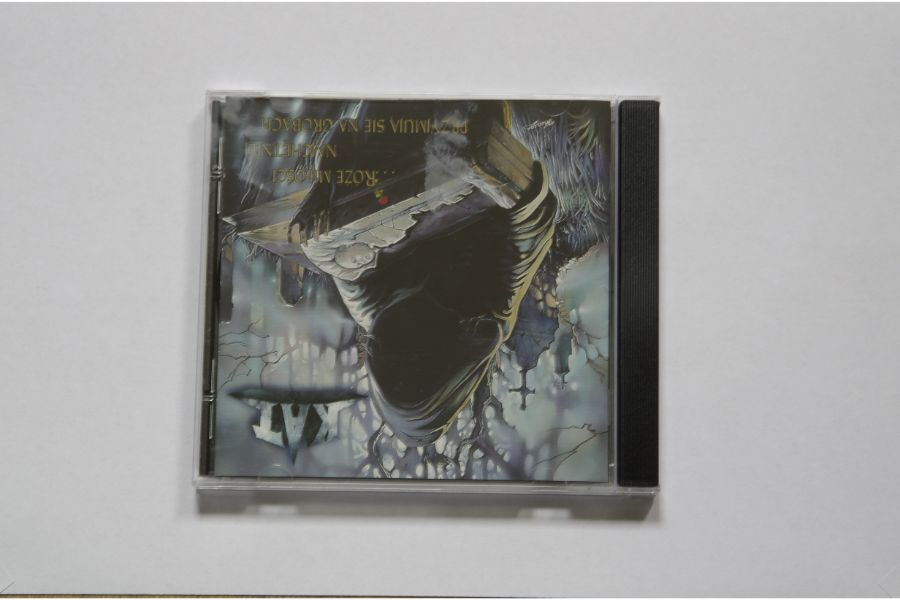album: (194, 88, 663, 496)
